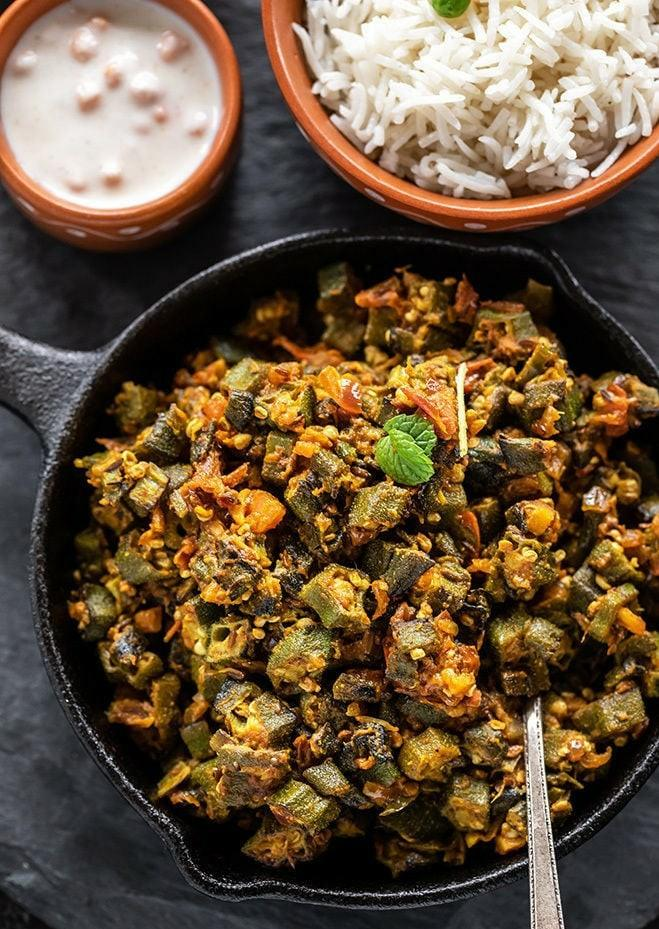BhindiMasala: (66, 260, 659, 880)
rice: (292, 0, 659, 202)
